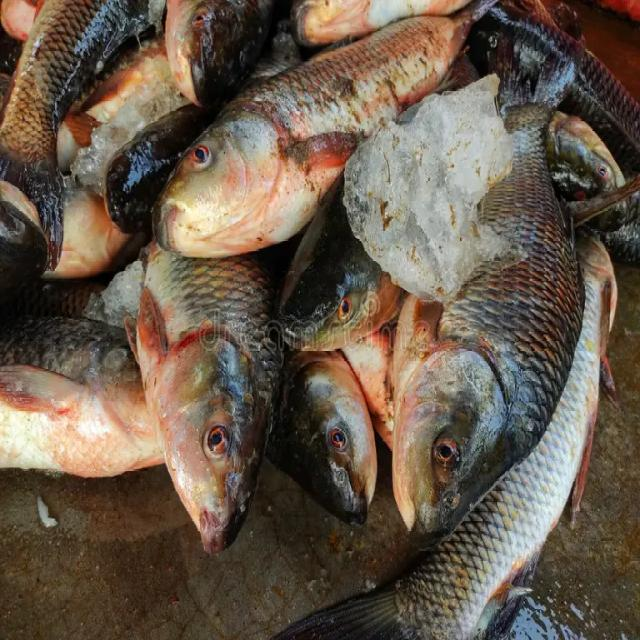Rohu: (153, 1, 496, 259)
